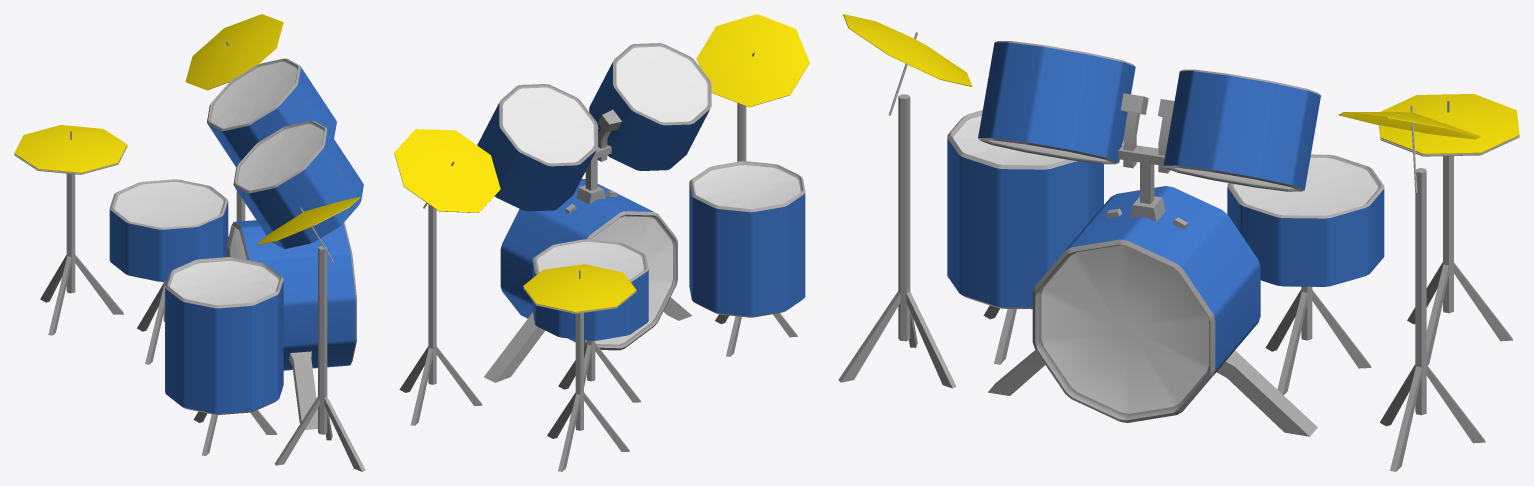
The model's file is drumsetcolor.fbx.
The picture shows the model from 3 angles, left to right: view 1: azimuth 30°, elevation 25°; view 2: azimuth 150°, elevation 25°; view 3: azimuth 270°, elevation 25°; orthographic projection. The views are drawn at different scales.
Visible parts, largest first — view 1: polySurface132; view 2: polySurface132; view 3: polySurface132.
Boxes of the visible parts, x1,y1,x2,y2 form: polySurface132: (14,14,365,471); polySurface132: (394,14,809,471); polySurface132: (838,14,1519,471).
Size of the model in its own units: 3.97 by 4.04 by 6.85.
